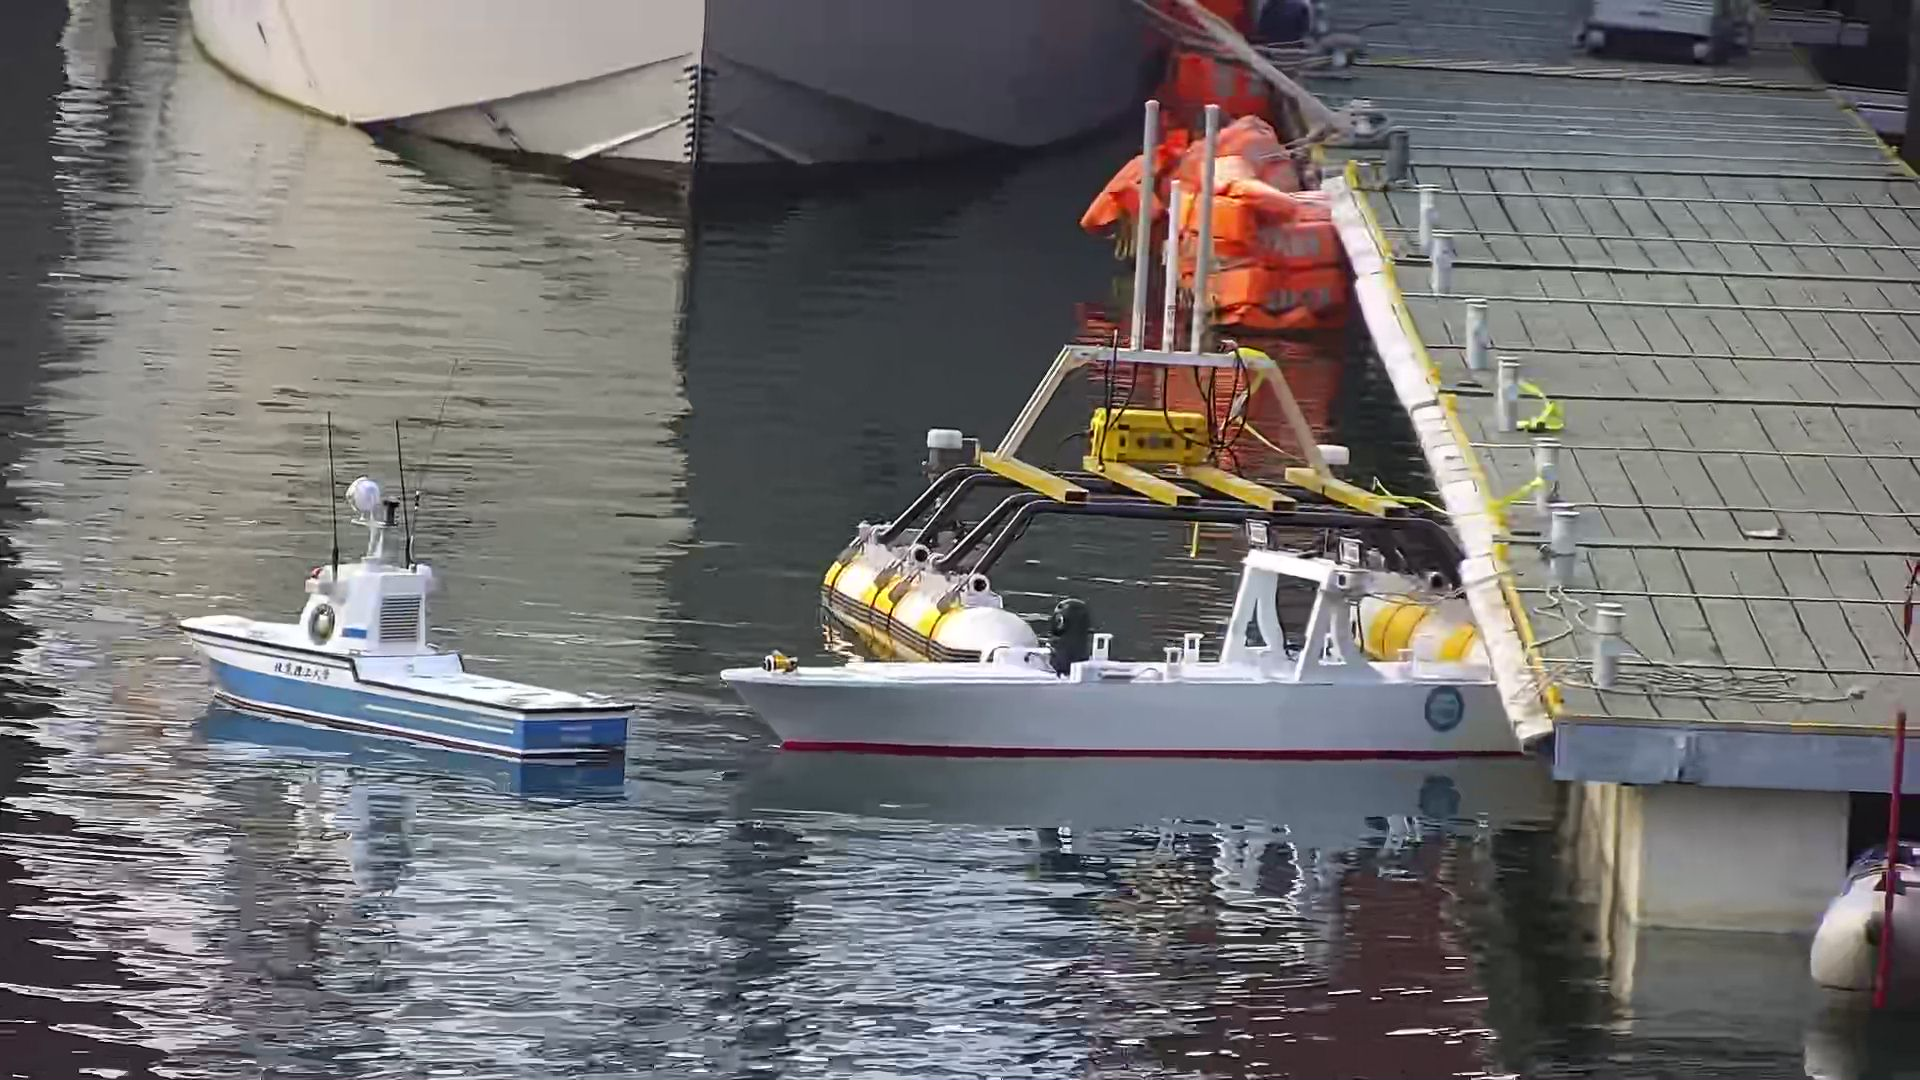boat: (713, 549, 1538, 756), (174, 506, 634, 767)
harbor: (1280, 1, 1909, 920)
